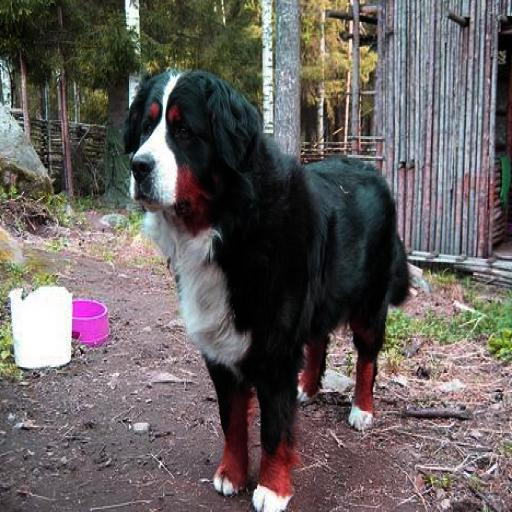dog_face: (115, 72, 247, 215)
